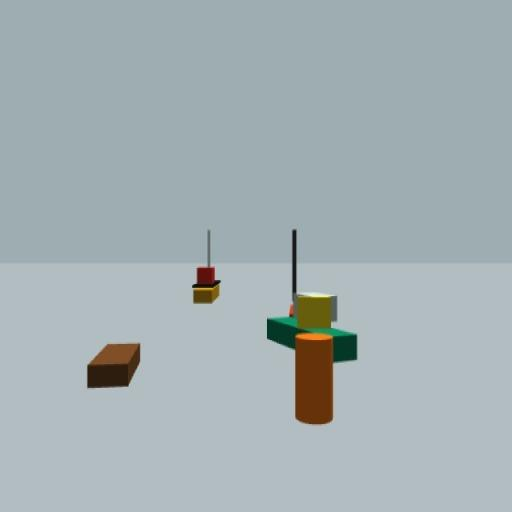buoy: (296, 294, 334, 427)
debris_container: (86, 342, 142, 389)
vessel: (192, 230, 220, 305)
